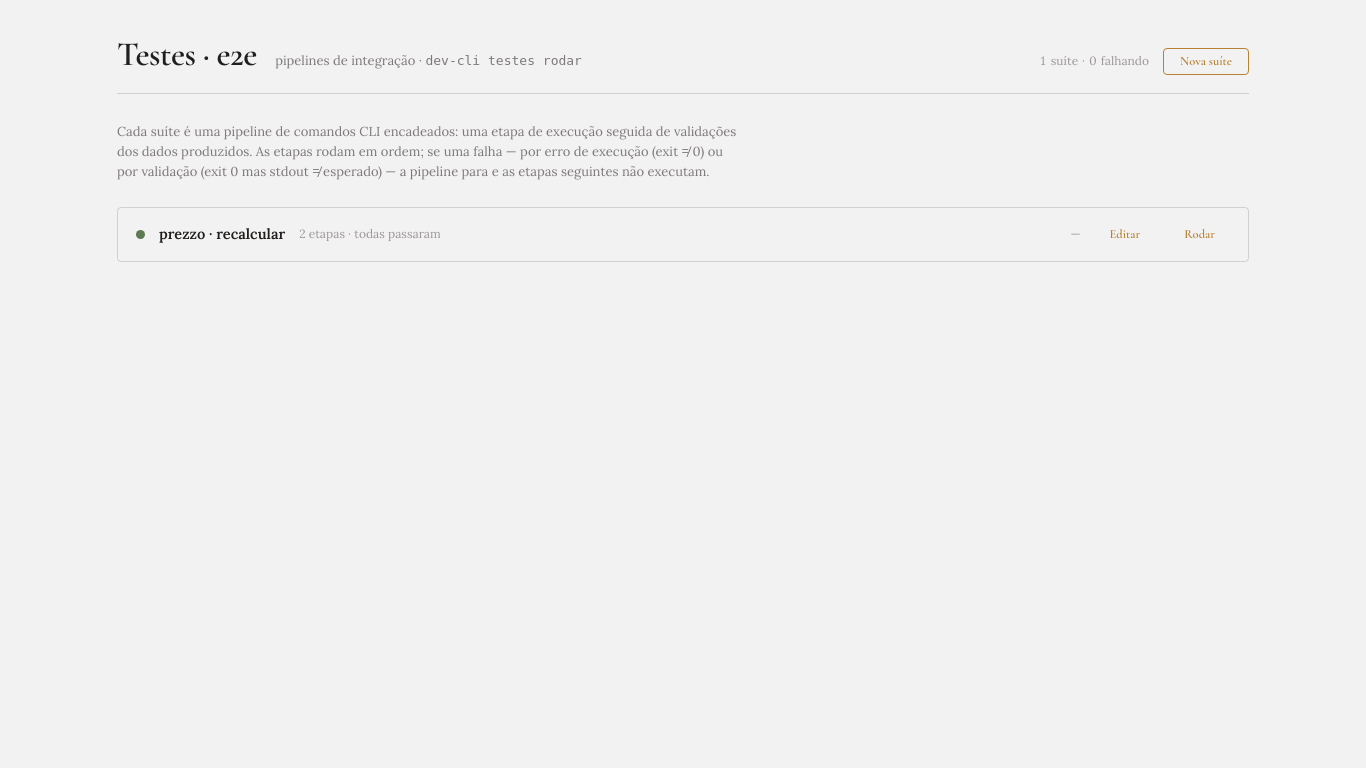
Testes › suíte com falha de validação mostra a caixa de "esperado × obtido"
This screenshot has width=1366, height=768.
Expected: the text "prezzo · recalcular" is shown, x1=159 y1=223 x2=285 y2=245
Click the button "Rodar" at (1200,234), box x1=1169 y1=222 x2=1230 y2=247
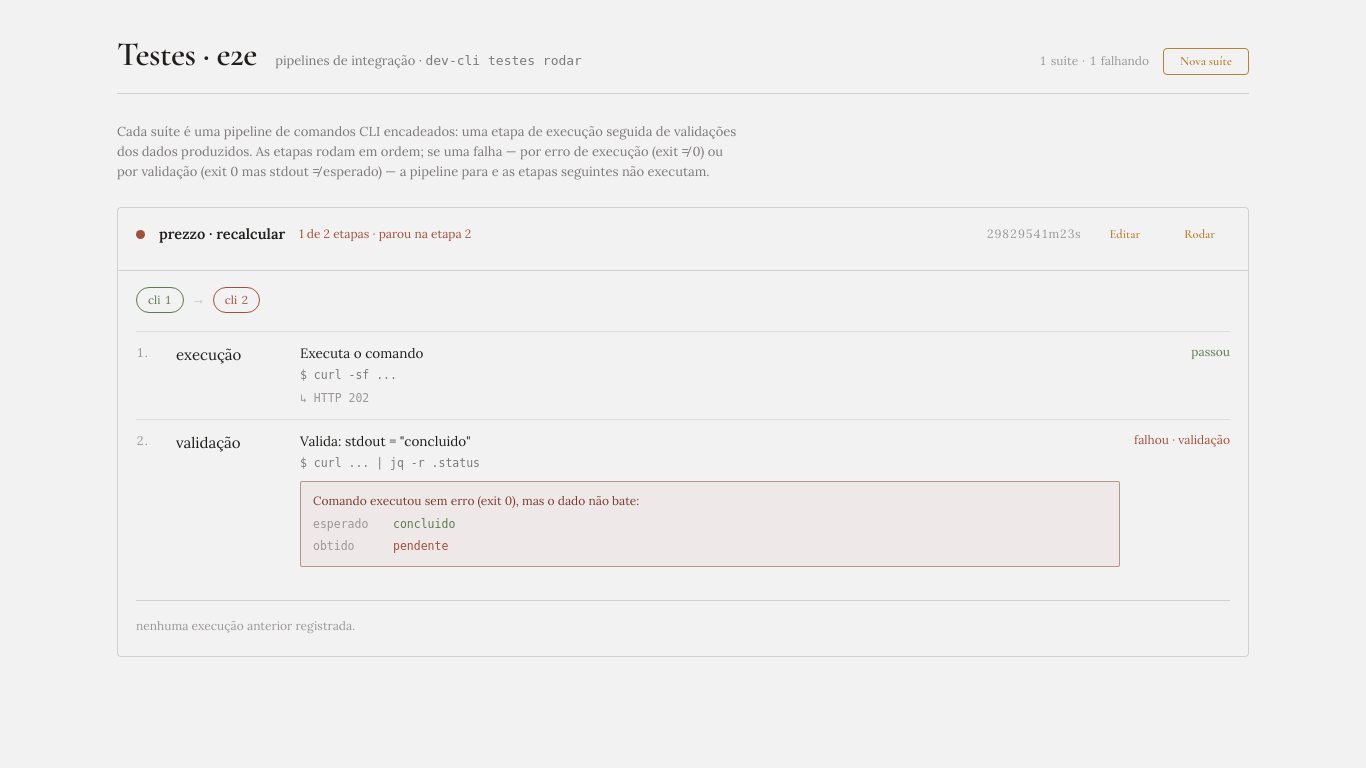
Now the text "Comando executou sem erro (exit 0), mas o dado não bate:" is shown, box x1=313 y1=493 x2=639 y2=508
Now the text "esperado" is shown, box x1=313 y1=518 x2=368 y2=532
Now the text "obtido" is shown, box x1=313 y1=539 x2=354 y2=553
